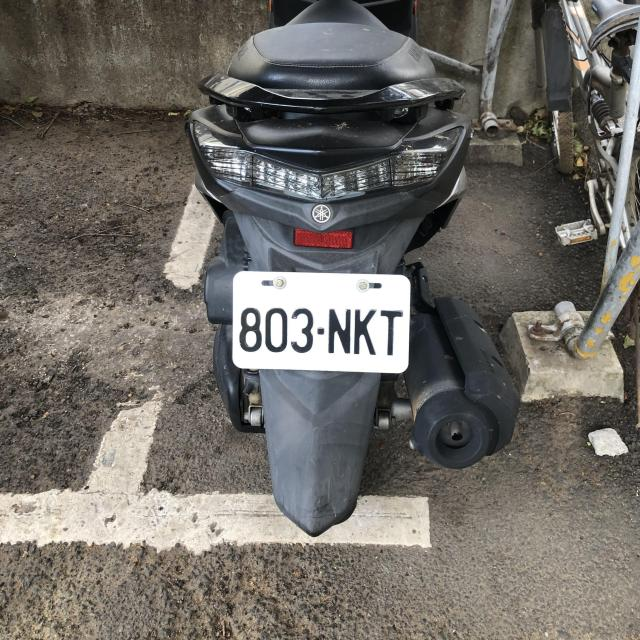W: (229, 268, 412, 375)
